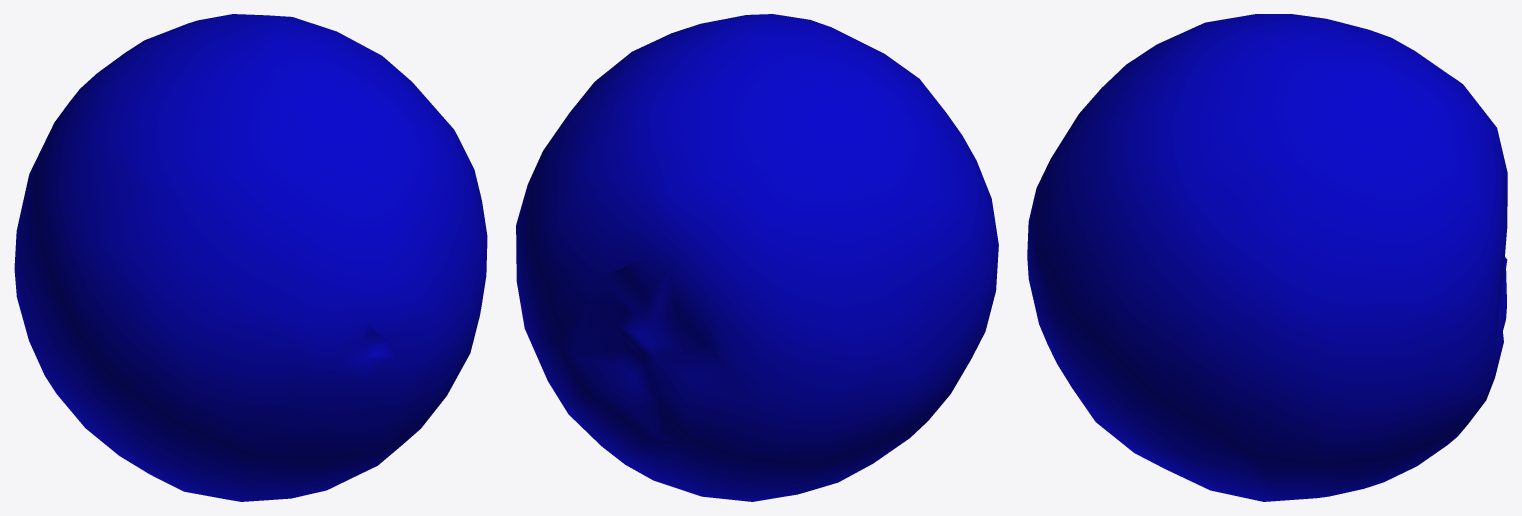
The model's file is 08194_sparse_textured_ok.obj.
3 renders of one model, left to right at view 1: azimuth 30°, elevation 25°; view 2: azimuth 150°, elevation 25°; view 3: azimuth 270°, elevation 25°, orthographic. The views are drawn at different scales.
Parts seen in each view (by area): view 1: textured_ok; view 2: textured_ok; view 3: textured_ok.
Part boxes in pixels (x1,y1,x2,y2): textured_ok: (14,14,487,501); textured_ok: (516,14,998,501); textured_ok: (1027,14,1507,501).
Bounding box in the file's own units: 0.0721 × 0.0742 × 0.0714.
